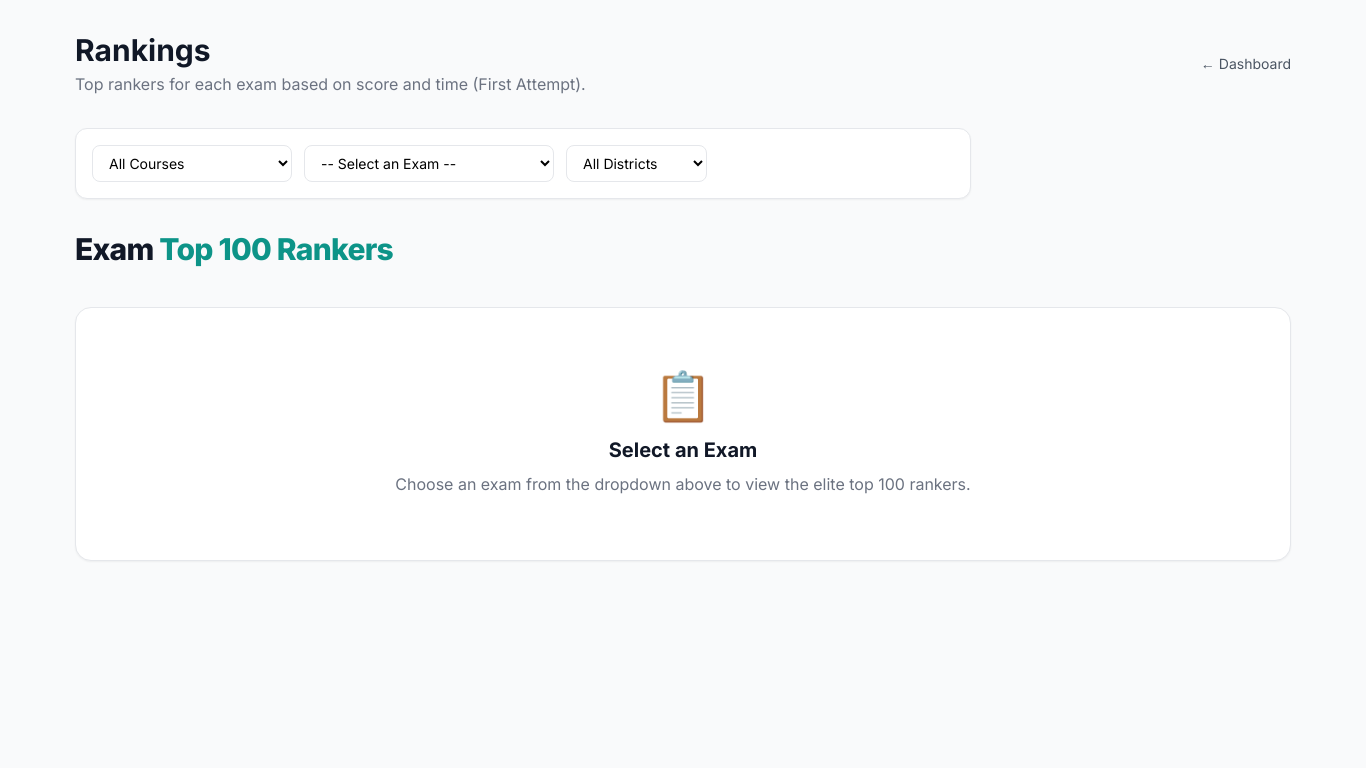
Test case: Rankings page › shows times under a minute in seconds only
Select "Physics Paper 1" in the 2nd dropdown: (429, 164) x1=304 y1=145 x2=554 y2=182
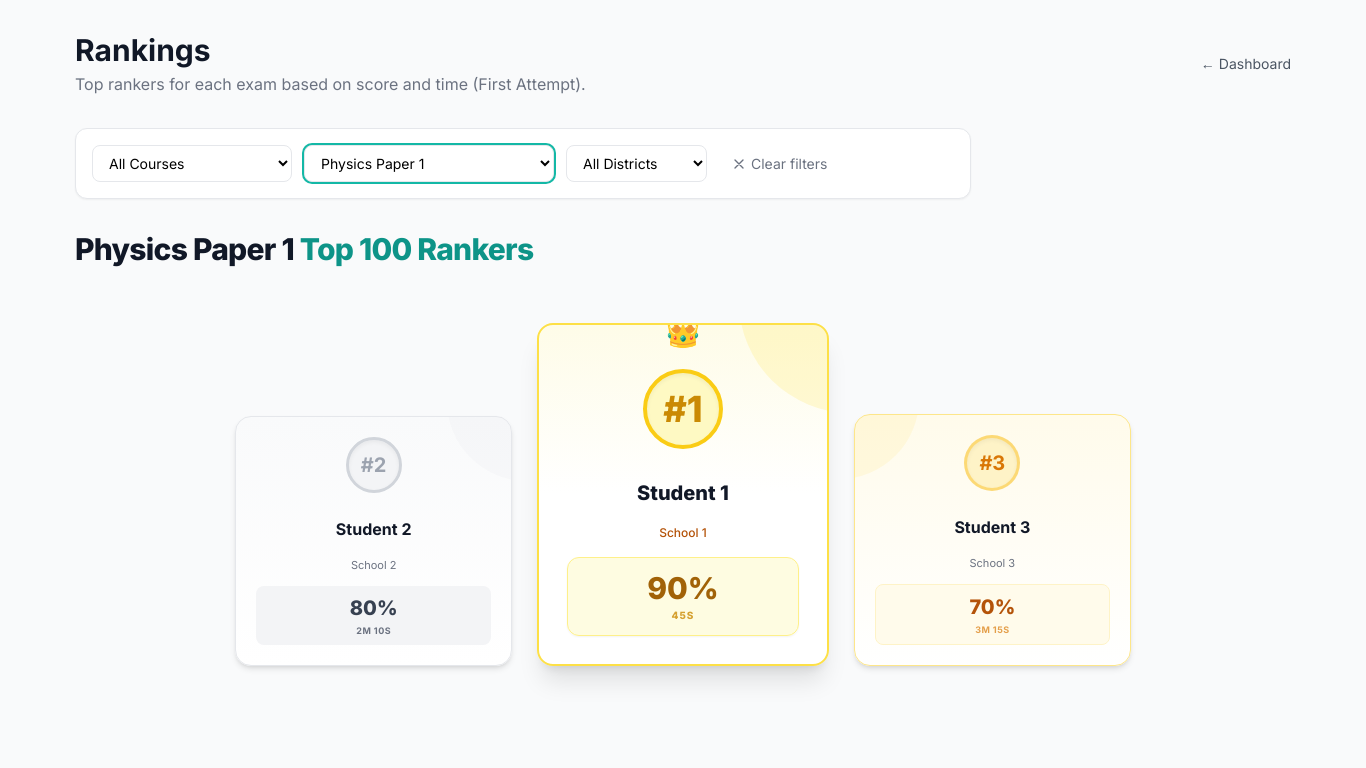
Check: the text "45s" is shown, box x1=672 y1=609 x2=694 y2=621
Check: the text "2m 10s" is shown, box x1=356 y1=624 x2=391 y2=636
